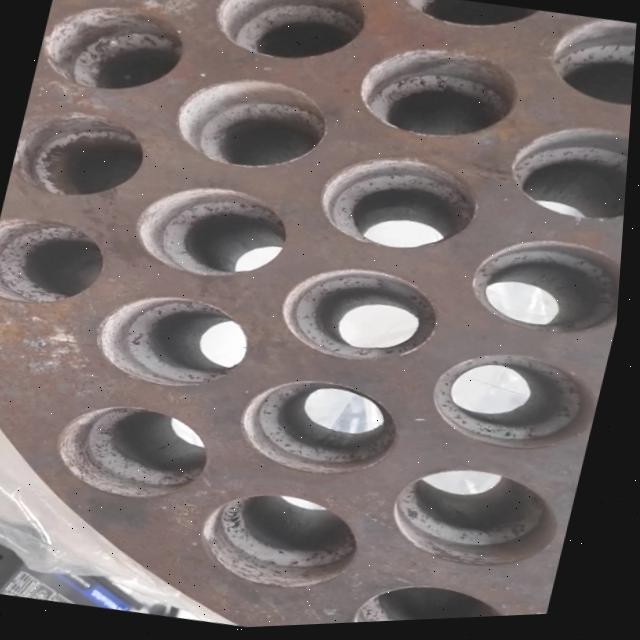Hole: (389, 457, 577, 586), (427, 343, 612, 469), (235, 368, 416, 492), (311, 145, 490, 267), (275, 257, 452, 379), (198, 482, 375, 604), (50, 392, 225, 513), (349, 37, 527, 155), (89, 283, 262, 402), (128, 174, 300, 291), (166, 67, 338, 183), (465, 230, 627, 351), (33, 0, 194, 105), (9, 102, 157, 210), (503, 119, 633, 237), (205, 0, 374, 77), (0, 210, 116, 315), (543, 16, 638, 121), (356, 574, 538, 626), (388, 0, 551, 47)
